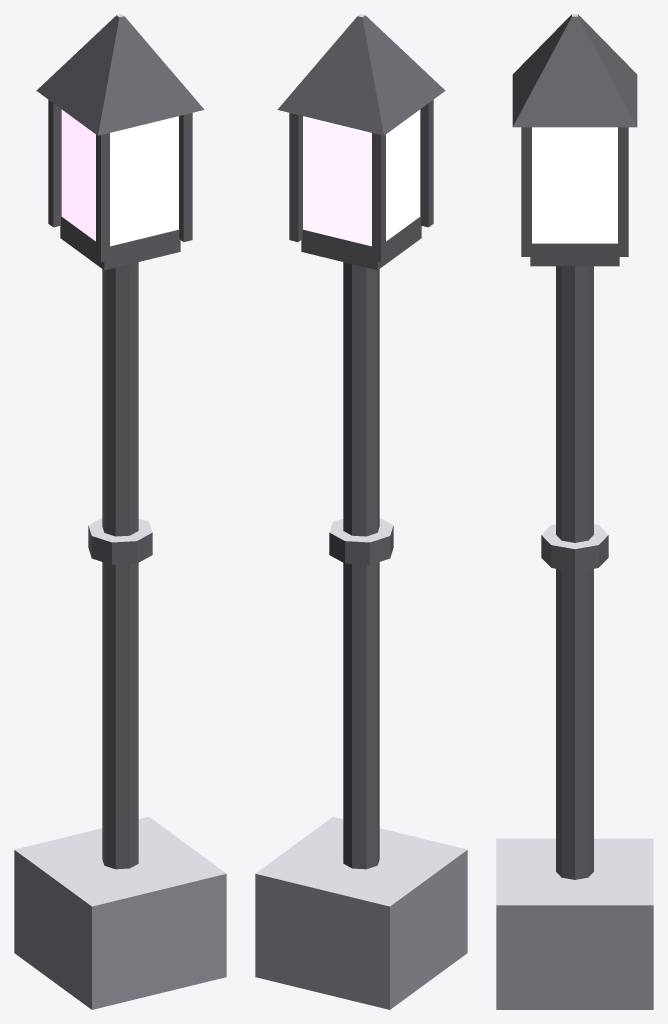
File: PR_Poste.fbx
The picture shows the model from 3 angles, left to right: view 1: azimuth 30°, elevation 25°; view 2: azimuth 150°, elevation 25°; view 3: azimuth 270°, elevation 25°; orthographic projection.
Parts seen in each view (by area): view 1: PR_Poste; view 2: PR_Poste; view 3: PR_Poste.
Boxes of the visible parts, x1,y1,x2,y2 form: PR_Poste: (14,14,226,1009); PR_Poste: (255,14,467,1009); PR_Poste: (496,14,653,1009).
Bounding box in the file's own units: 0.75 × 5.05 × 0.75.
